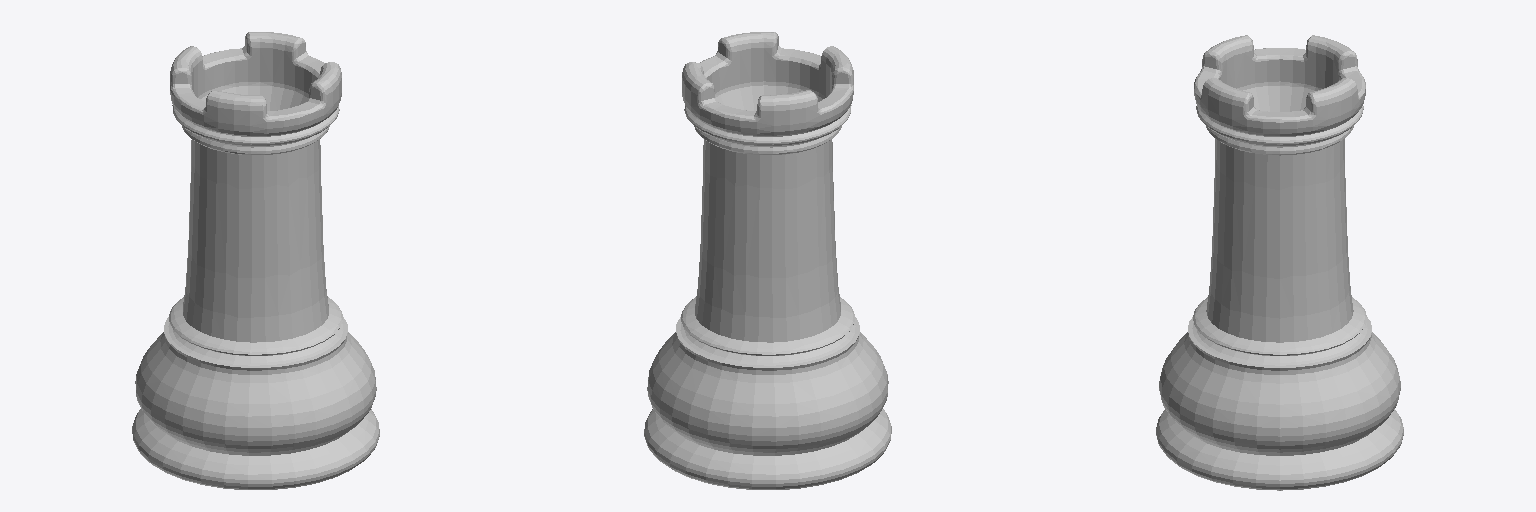
Rendered from rook.obj.
3 views of the same model, side by side, from view 1: azimuth 30°, elevation 25°; view 2: azimuth 150°, elevation 25°; view 3: azimuth 270°, elevation 25° (orthographic).
Visible parts, largest first — view 1: rook; view 2: rook; view 3: rook.
Part boxes in pixels (left/top/right/bottom): rook: left=132, top=32, right=379, bottom=489; rook: left=644, top=32, right=891, bottom=489; rook: left=1156, top=35, right=1403, bottom=490.
Bounding box in the file's own units: 1.08 × 1.83 × 1.08.